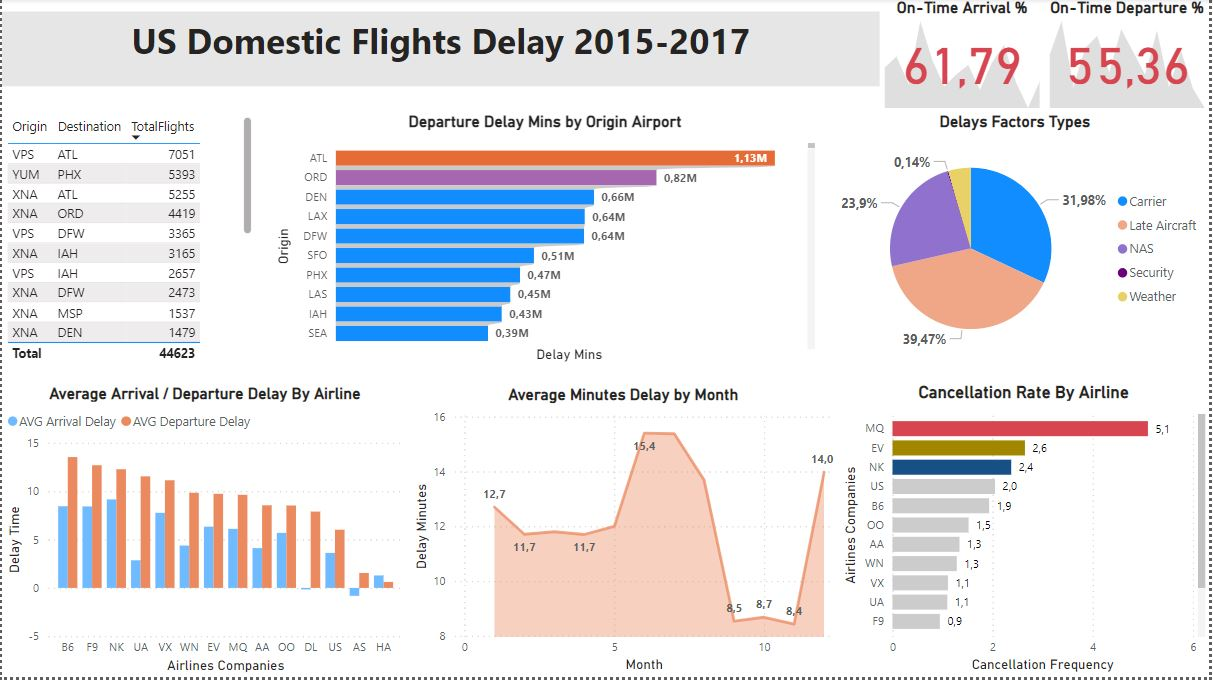

Layout of this report page (visuals, bound fields, positions):
{"tool":"powerbi","page":{"name":"Page 1","canvas":[1280,720],"ordinal":0},"visuals":[{"type":"clusteredColumnChart","title":"Average Arrival / Departure Delay By Airline","fields":{"Category":["airline_data.Reporting_Airline"],"Y":["airline_data.AVG Arrival Delay By Airline","airline_data.AVG Departure Delay By Airline"]},"box":[0,409,430.4,310.8],"z":0},{"type":"kpi","title":"On-Time Arrival %","fields":{"TrendLine":["airline_data.Reporting_Airline"],"Indicator":["airline_data.On-Time Arrival Percentage"]},"box":[930.4,0,175.1,121.7],"z":2000},{"type":"kpi","title":"On-Time Departure %","fields":{"TrendLine":["airline_data.Reporting_Airline"],"Indicator":["airline_data.On-Time Departure Percentage"]},"box":[1105.5,0,175.1,121.7],"z":3000},{"type":"barChart","title":"Cancellation Rate By Airline","fields":{"Category":["airline_data.Reporting_Airline"],"Y":["airline_data.Cancellation Rate By Airline"]},"box":[885.9,407.2,394.7,312.6],"z":4000},{"type":"pieChart","title":"Delays Factors Types","fields":{"Y":["airline_data.Total Carrier Delay","airline_data.Total Late Aircraft Delay","airline_data.Total NAS Delay","airline_data.Total Security Delay","airline_data.Total Weather Delay"]},"box":[866.2,121.5,414.4,269.7],"z":5000},{"type":"tableEx","fields":{"Values":["airline_data.Origin","airline_data.Destination","airline_data.TotalFlights"]},"box":[0,121.5,269.7,269.7],"z":6000},{"type":"lineChart","title":"Average Minutes Delay by Month","fields":{"Y":["Avg(airline_data.Arrival Delay Mins)"],"Category":["airline_data.Month"]},"box":[430.4,410.8,455.4,309],"z":6001},{"type":"barChart","title":"Departure Delay Mins by Origin Airport ","fields":{"Category":["airline_data.Origin"],"Y":["CountNonNull(airline_data.Departure Delay Mins)"]},"box":[284,121.5,582.3,269.7],"z":6002},{"type":"textbox","box":[0,14.3,930.5,79.5],"z":6003}]}

Visuals, with their boxes in screenshot pixels (x1, y1, x2, y2), scaled from the page's 1280x720 canvas onto the 1213x681 screenshot:
"Average Arrival / Departure Delay By Airline" clusteredColumnChart: 0/387/408/680
"On-Time Arrival %" kpi: 882/0/1048/115
"On-Time Departure %" kpi: 1048/0/1212/115
"Cancellation Rate By Airline" barChart: 840/385/1212/680
"Delays Factors Types" pieChart: 821/115/1212/370
tableEx - airline_data.Origin x airline_data.Destination: 0/115/256/370
"Average Minutes Delay by Month" lineChart: 408/389/839/680
"Departure Delay Mins by Origin Airport " barChart: 269/115/821/370
textbox: 0/14/882/89
